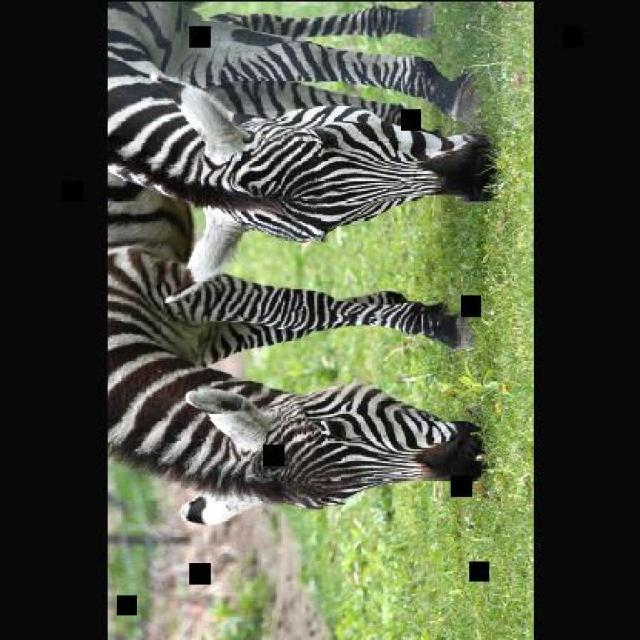unauthorized: (106, 171, 486, 526), (106, 0, 500, 285), (108, 0, 483, 128), (207, 3, 436, 40)
